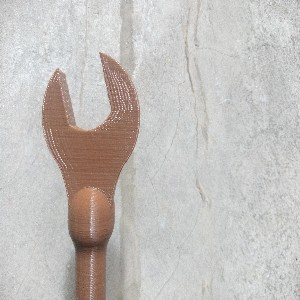spanner: (41, 51, 141, 300)
